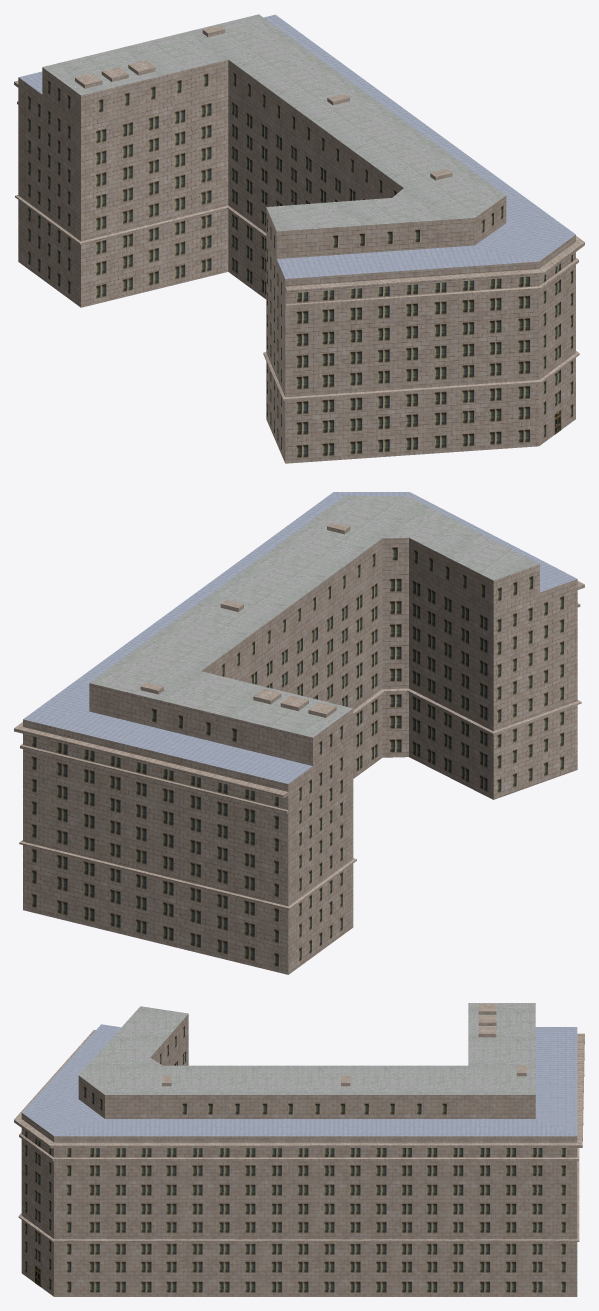
Rendered from Federal Bureau of Prisons.FBX.
3 views of the same model, one above another, from view 1: azimuth 30°, elevation 25°; view 2: azimuth 150°, elevation 25°; view 3: azimuth 270°, elevation 25° (orthographic). The views are drawn at different scales.
Visible parts, largest first — view 1: Line001; view 2: Line001; view 3: Line001.
Boxes of the visible parts, bbox=[...] form: Line001: bbox=[14, 14, 584, 463]; Line001: bbox=[14, 492, 584, 974]; Line001: bbox=[14, 1003, 584, 1296].
Size of the model in its own units: 280 by 211 by 582.
